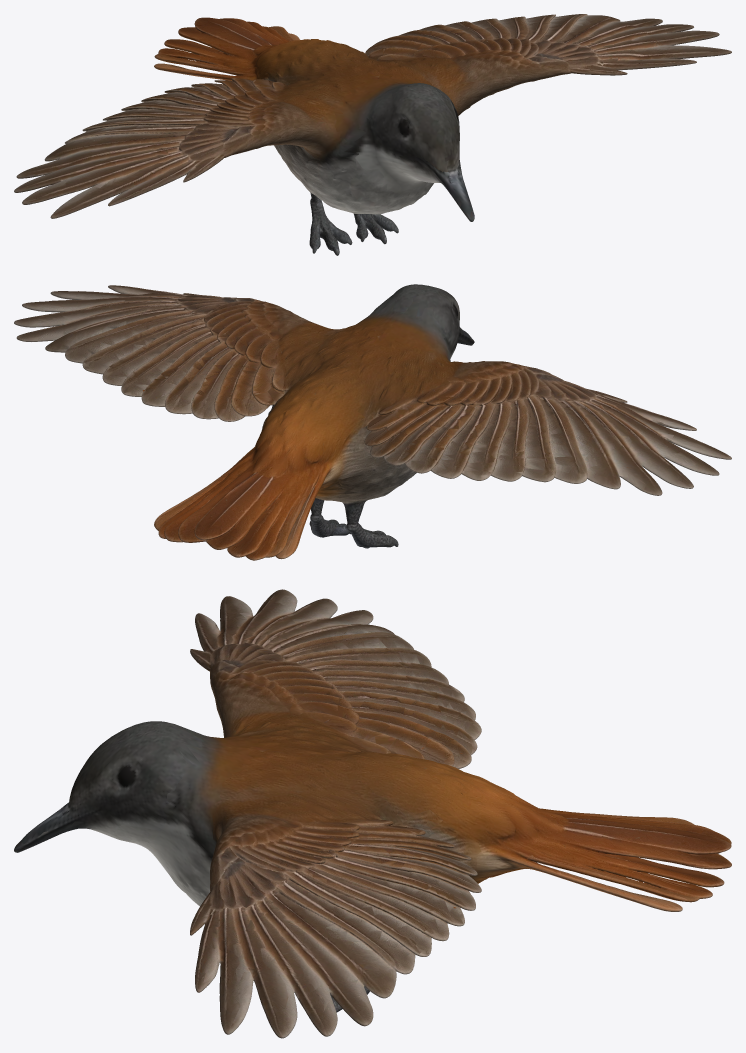
The model's file is Chamaetylas_fuelleborni.glb.
The picture shows the model from 3 angles, top to bottom: view 1: azimuth 30°, elevation 25°; view 2: azimuth 150°, elevation 25°; view 3: azimuth 270°, elevation 25°; orthographic projection. The views are drawn at different scales.
Visible parts, largest first — view 1: orient; view 2: orient; view 3: orient.
Boxes of the visible parts, bbox=[...] form: orient: bbox=[14, 14, 731, 255]; orient: bbox=[14, 284, 731, 560]; orient: bbox=[14, 589, 731, 1038].
Size of the model in its own units: 0.5001 by 0.1395 by 0.339.
Materials: 1 (1 with a texture image).
